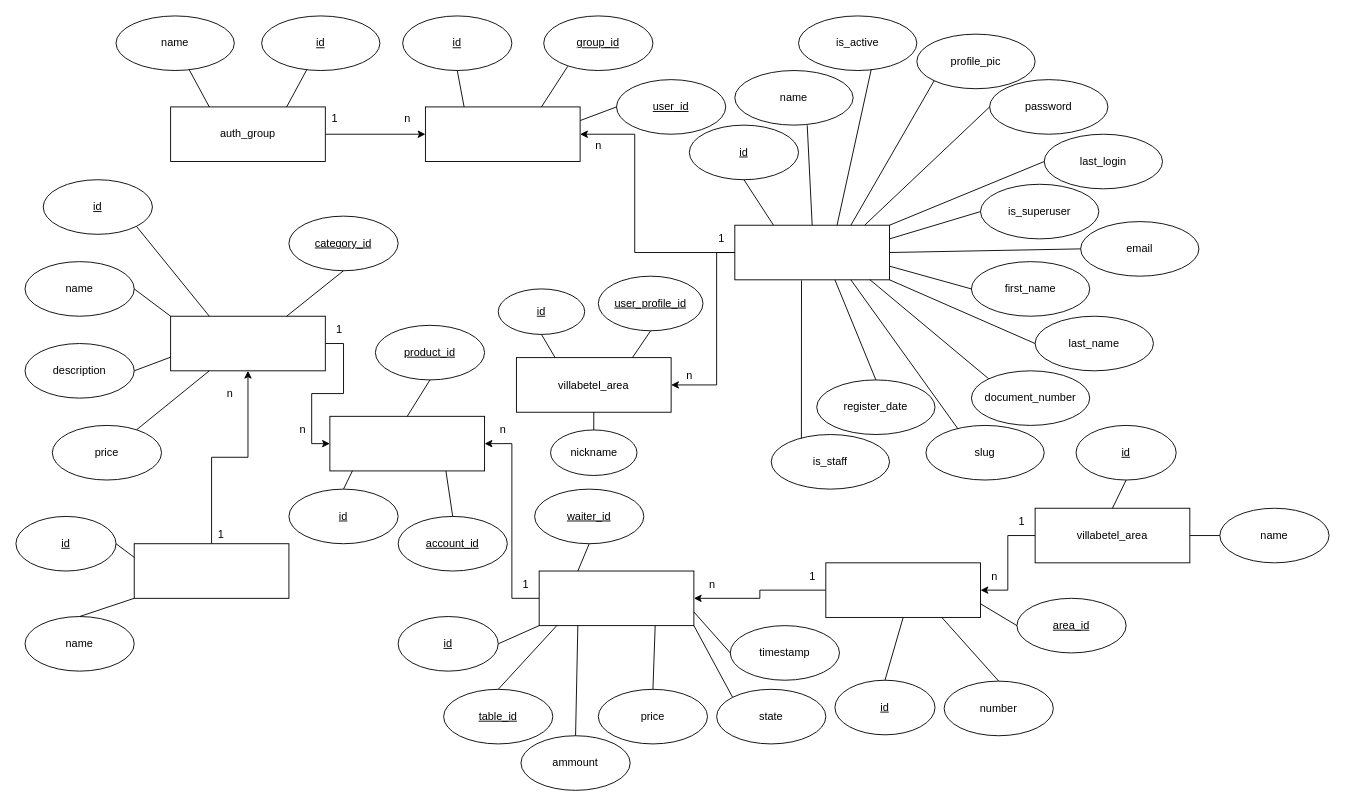
The diagram is 1345 pixels wide and 806 high, and some of its shapes have lost their labels. Here are the shapes that lost their labels. From the top down, the box of each, then its label:
(425, 106, 580, 162): villabetel_userprofilegroup
(734, 224, 890, 280): villabetel_userprofile
(170, 315, 325, 371): villabetel_product
(329, 415, 485, 471): villabetel_productquantity
(133, 543, 289, 598): villabetel_category
(825, 562, 981, 617): villabetel_table
(538, 570, 694, 626): villabetel_account
